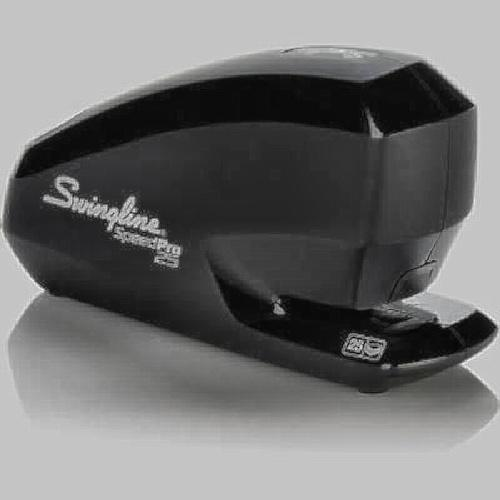stapler: (22, 72, 479, 386)
